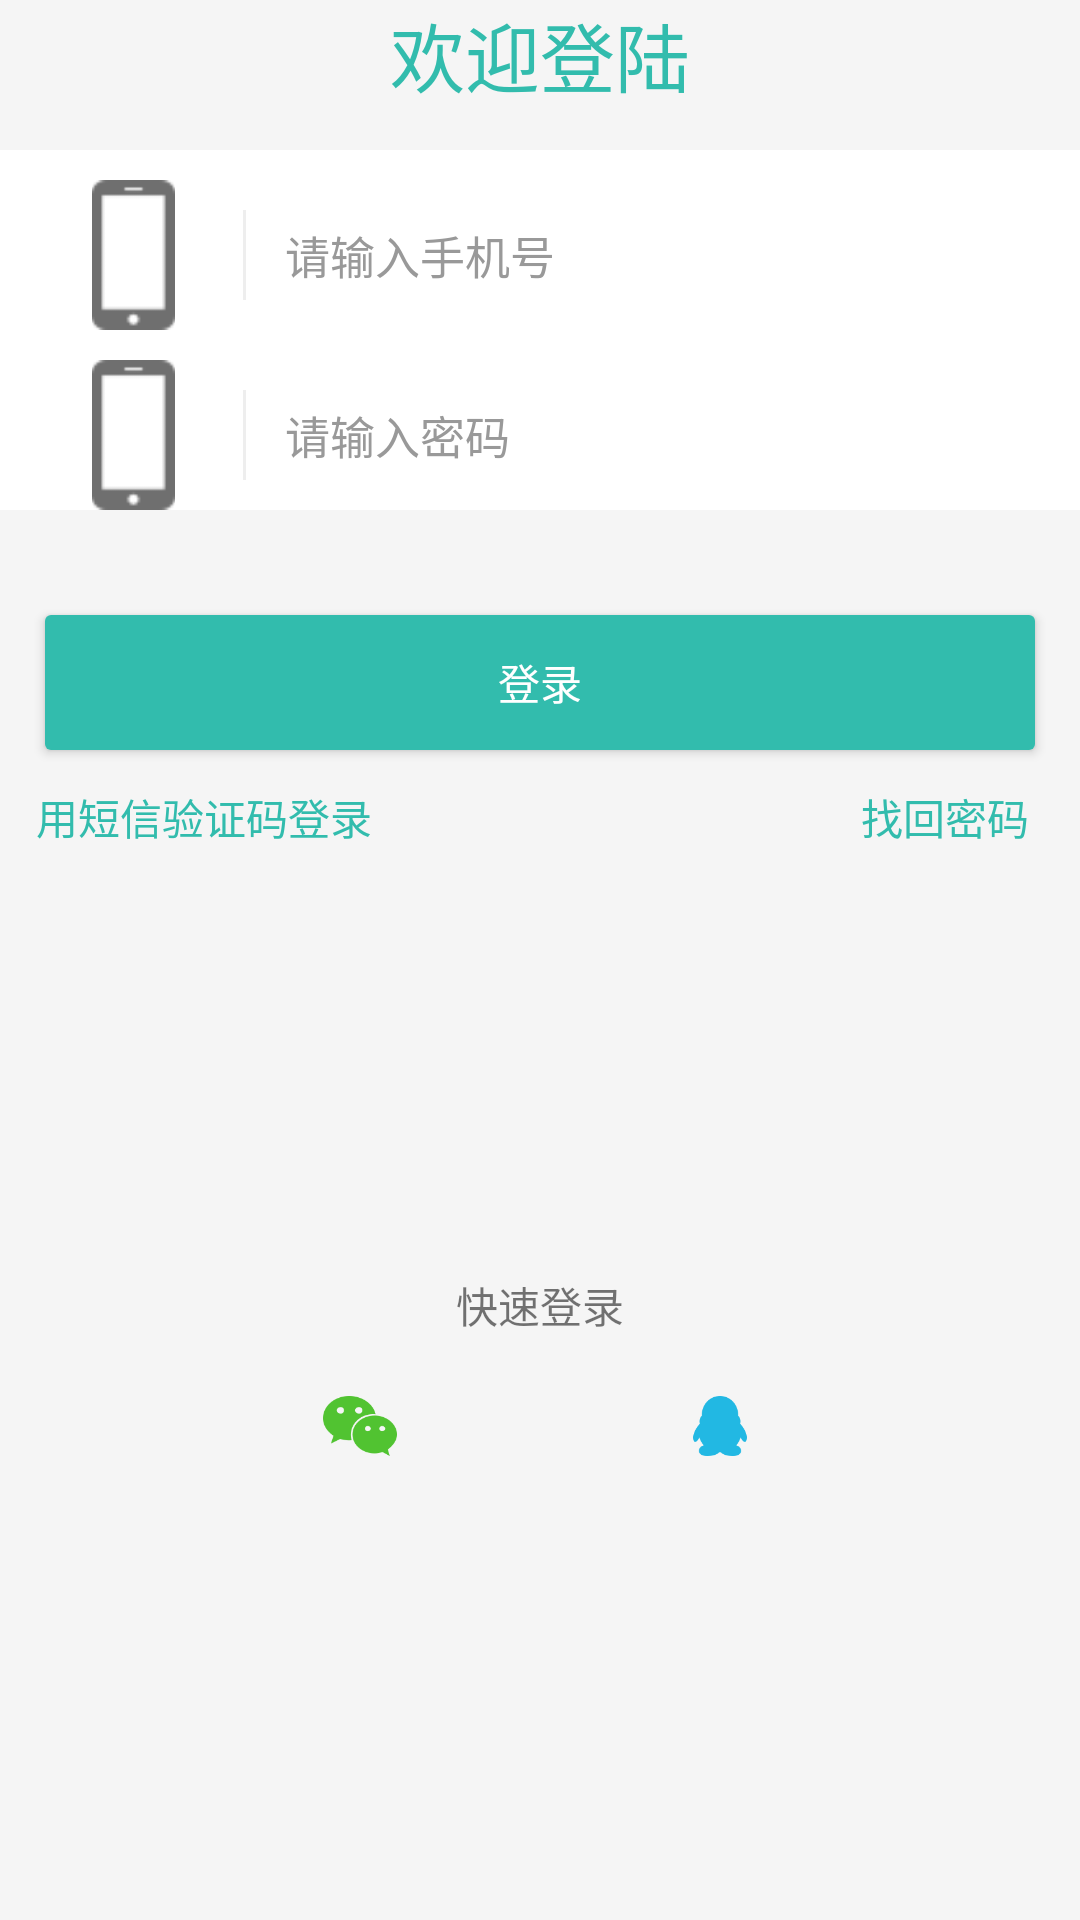

Icons on this 1080 × 1920 Android screen, each with the point to tap as (x=x, y=y):
reg tel: (x=133, y=255), (x=133, y=435)
